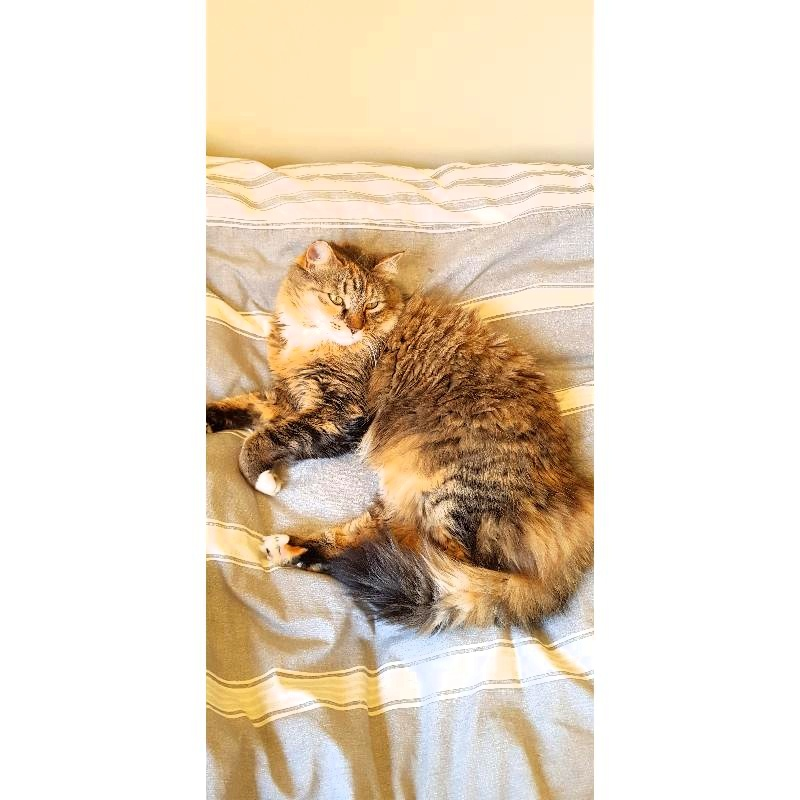yellow: (206, 235, 594, 637)
